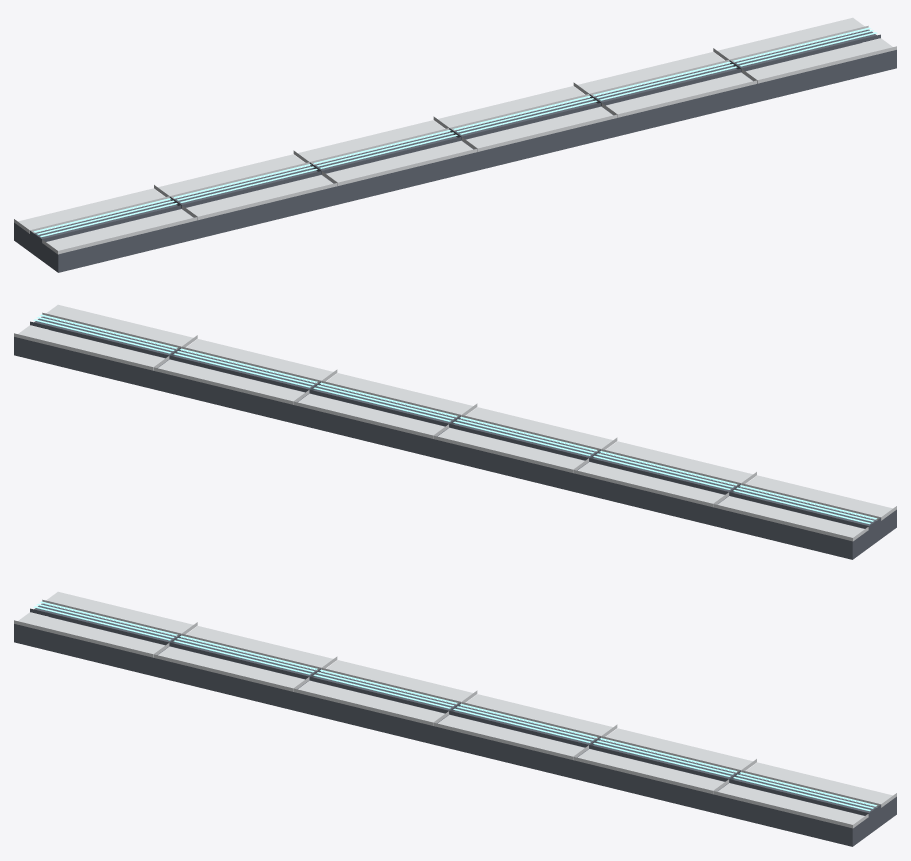
The model's file is ext_platform_infill.glb.
3 renders of one model, top to bottom at view 1: azimuth 30°, elevation 25°; view 2: azimuth 150°, elevation 25°; view 3: azimuth 330°, elevation 25°, orthographic.
Visible parts, largest first — view 1: Pavers, Body, Guide_Strip, Tactile_Bars; view 2: Pavers, Body, Guide_Strip, Tactile_Bars; view 3: Pavers, Body, Guide_Strip, Tactile_Bars.
Boxes of the visible parts, x1=… form: Pavers: x1=14, y1=17, x2=896, y2=254; Body: x1=14, y1=43, x2=896, y2=272; Guide_Strip: x1=30, y1=29, x2=880, y2=242; Tactile_Bars: x1=33, y1=27, x2=877, y2=237; Pavers: x1=14, y1=304, x2=896, y2=541; Body: x1=14, y1=330, x2=896, y2=559; Guide_Strip: x1=30, y1=316, x2=880, y2=529; Tactile_Bars: x1=33, y1=314, x2=877, y2=524; Pavers: x1=14, y1=591, x2=896, y2=828; Body: x1=14, y1=617, x2=896, y2=846; Guide_Strip: x1=30, y1=603, x2=880, y2=816; Tactile_Bars: x1=33, y1=601, x2=877, y2=811.
Bounding box in the file's own units: 11.99 × 0.306 × 1.1.
